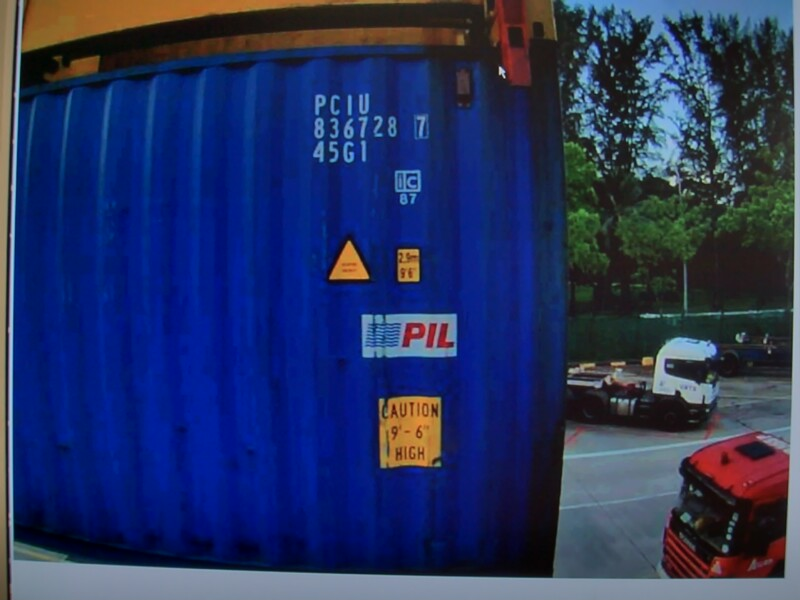container_no_door: (25, 74, 539, 552)
